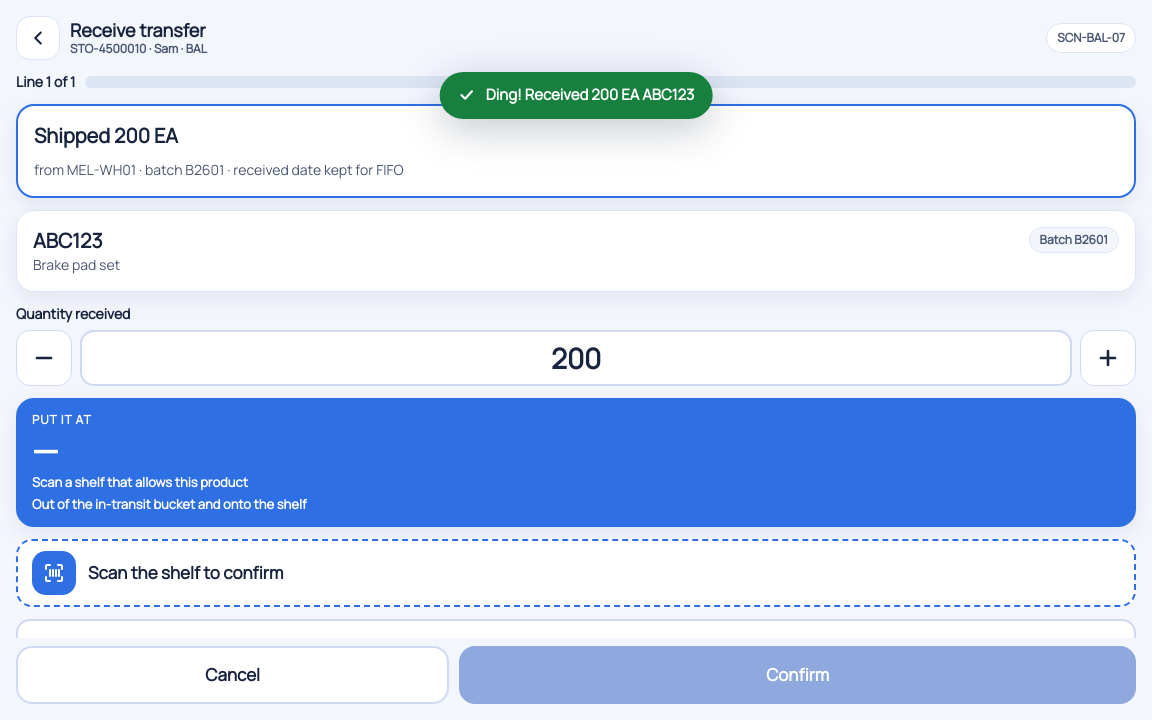
Test: ReceiveTransfer › warns that a short line stays in transit
Check: the text "Line 1 of 1" is shown, box [16, 72, 75, 92]
Check: the text "stays in transit" is not shown
Replace the text in the number field with "198". click: [576, 358]
box: [80, 330, 1072, 386]
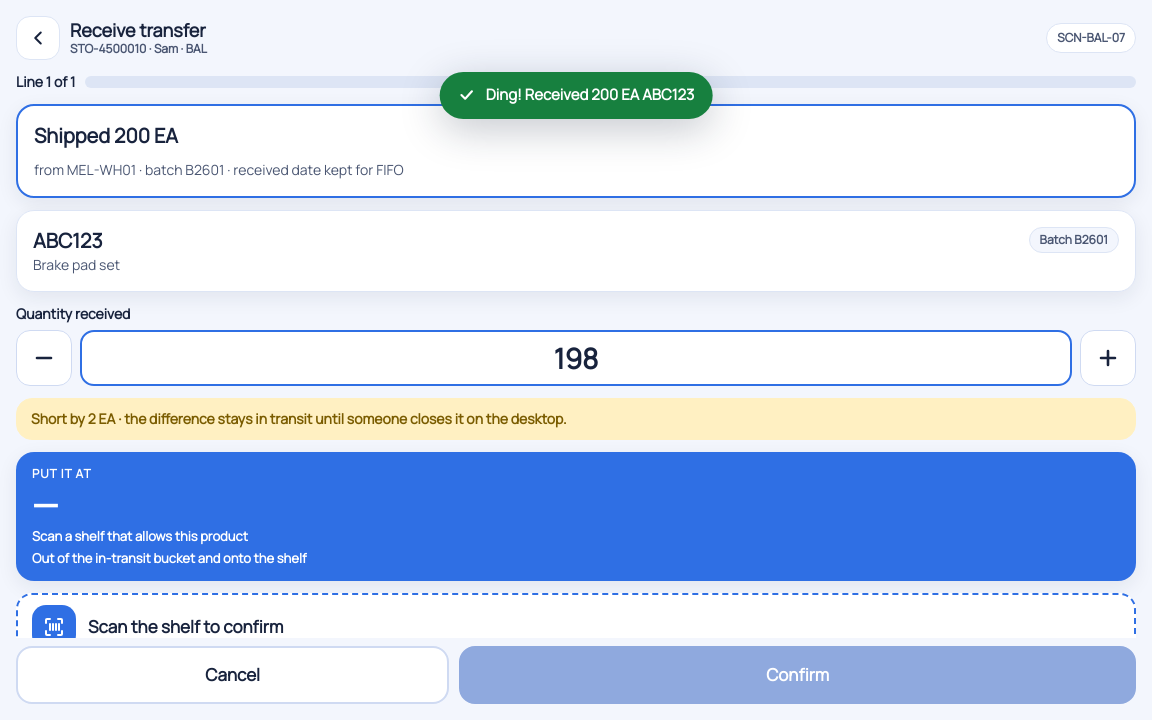
Check: the text "Short by 2 EA · the difference stays in transit until someone closes it on the desktop." is shown, box [16, 398, 1136, 440]
